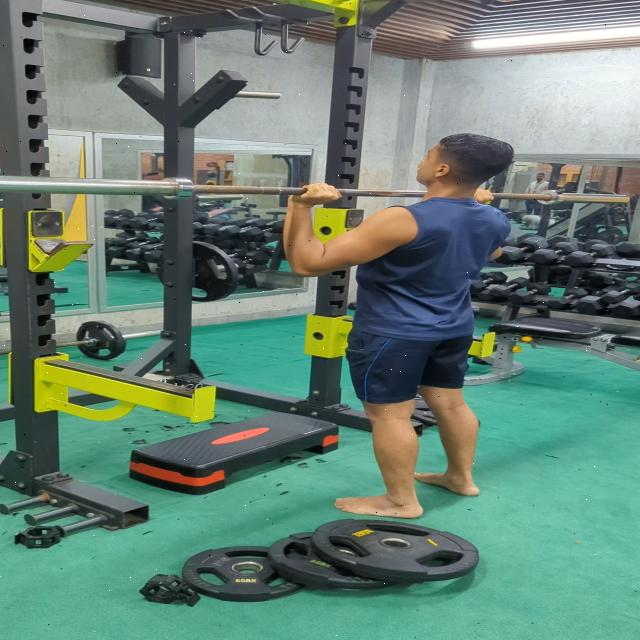Normal_OverheadPress: (276, 122, 524, 520)
